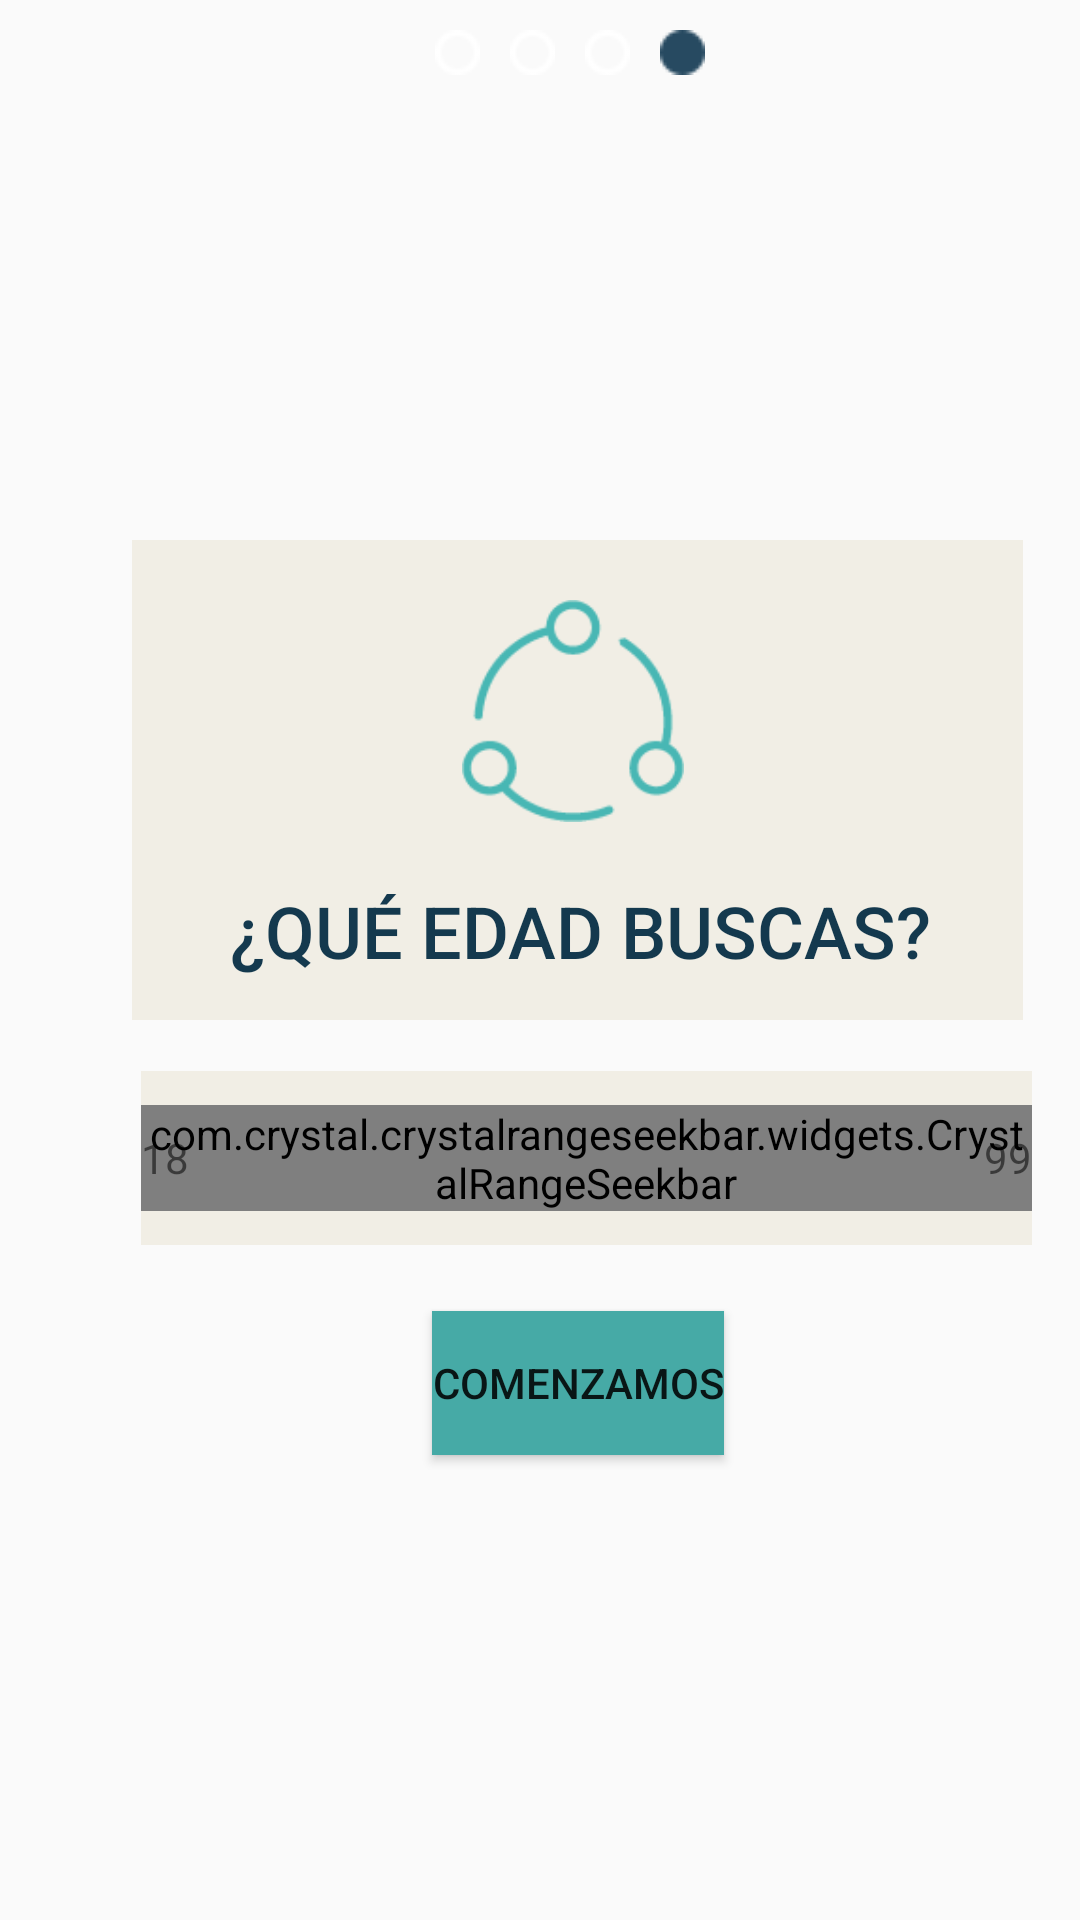

Icons on this 1080*1920 Android screen, each with the point to tap as (x,y):
punto: (682,52)
